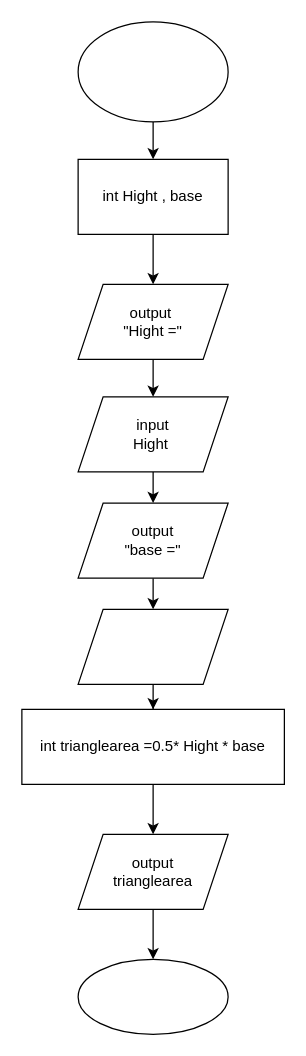
Image size: 306x1056. Some labels were removed from this diagram. Here are the shapes that lost their labels. From the top down, the centre of each, then its label:
At point (152, 71): "start".
At point (152, 646): "input base".
At point (152, 996): "stop".
